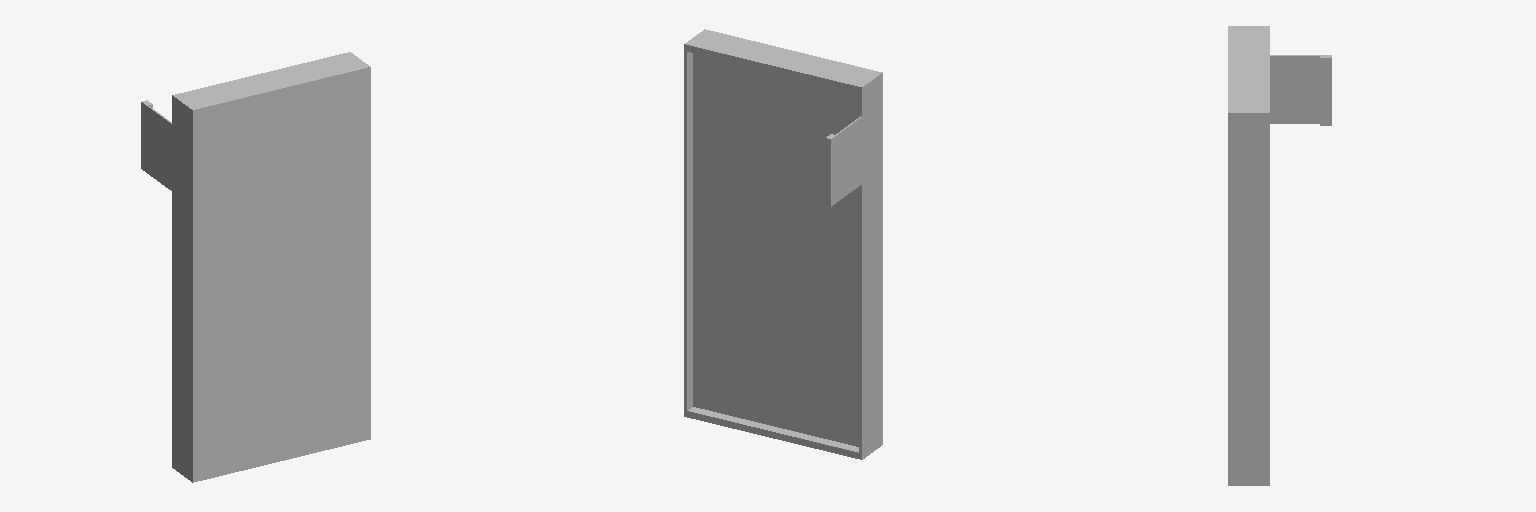
The model's file is pizarron.obj.
3 views of the same model, side by side, from view 1: azimuth 30°, elevation 25°; view 2: azimuth 150°, elevation 25°; view 3: azimuth 270°, elevation 25° (orthographic).
Parts seen in each view (by area): view 1: Cube; view 2: Cube; view 3: Cube.
Part boxes in pixels (x1,y1,x2,y2): Cube: (141,52,370,482); Cube: (684,29,882,459); Cube: (1228,26,1331,485).
Size of the model in its own units: 50 by 100 by 25.1.